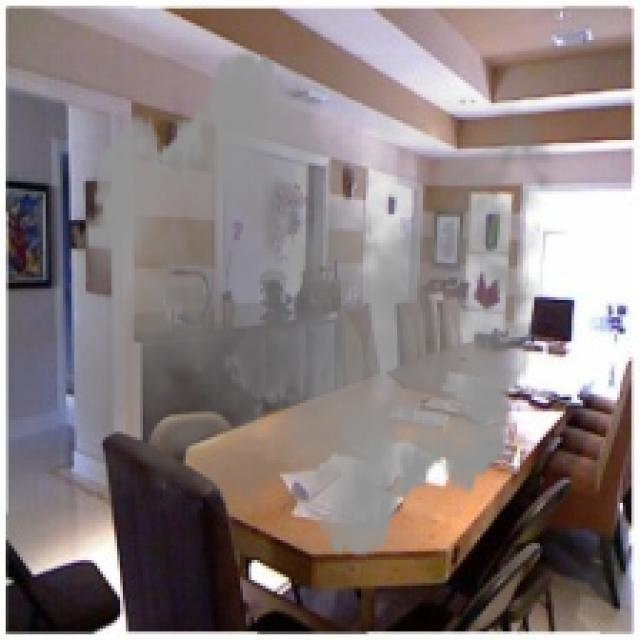smoke: (46, 34, 571, 574)
